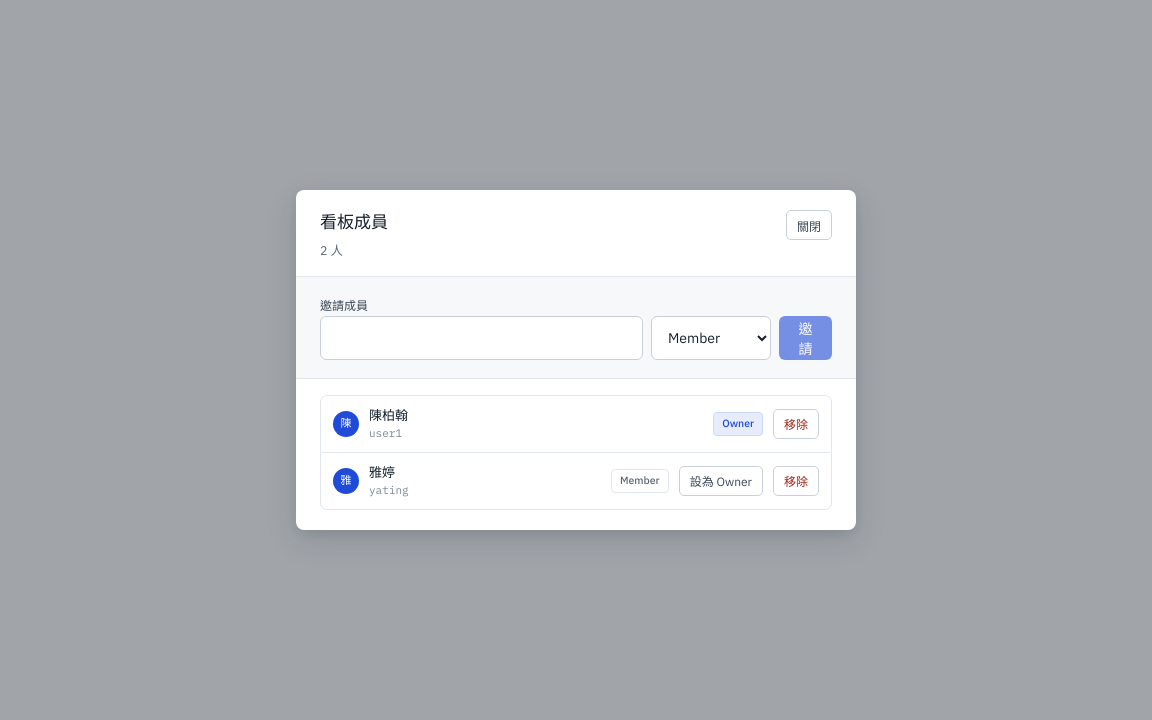
Test: s-member-management › 邀請已是成員的帳號時，輸入內容保留、顯示訊息，成員清單不變
The width and height of the screenshot is (1152, 720).
Expected: the text "2 人" is shown, top-left (320, 242), bottom-right (343, 258)
Type "yating" into the field labelled "邀請成員" at [481, 338], box top-left (320, 316), bottom-right (643, 360)
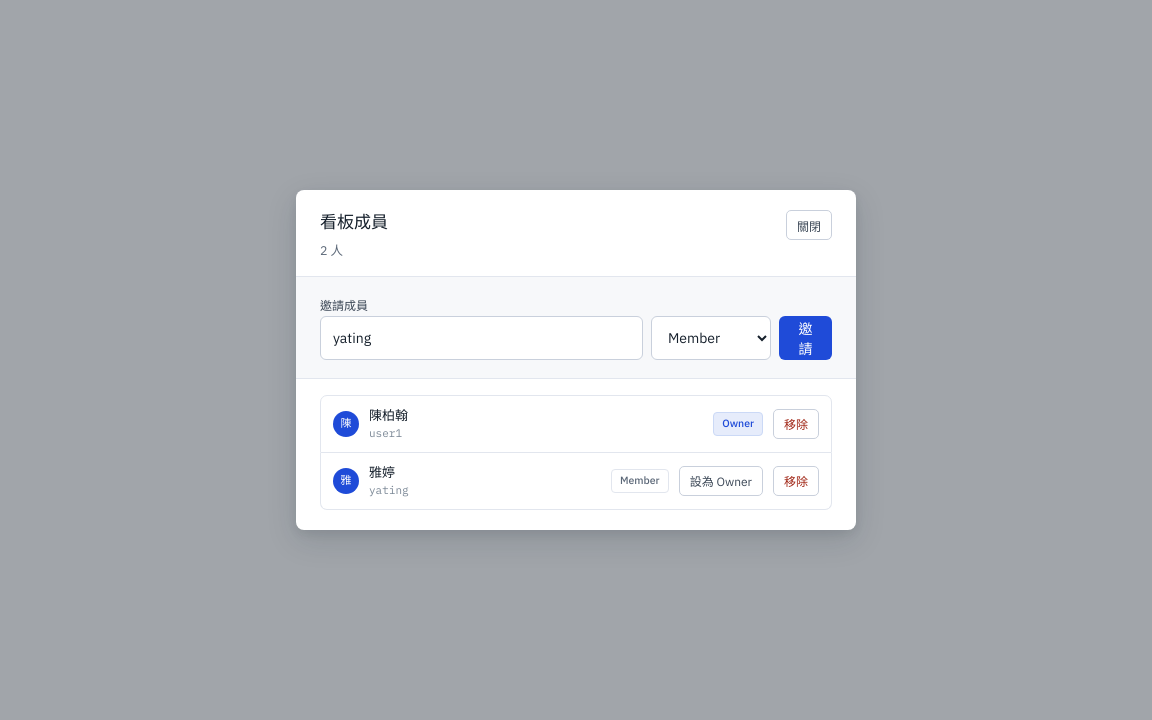
Click the button "邀請" at [805, 338], box top-left (779, 316), bottom-right (832, 360)
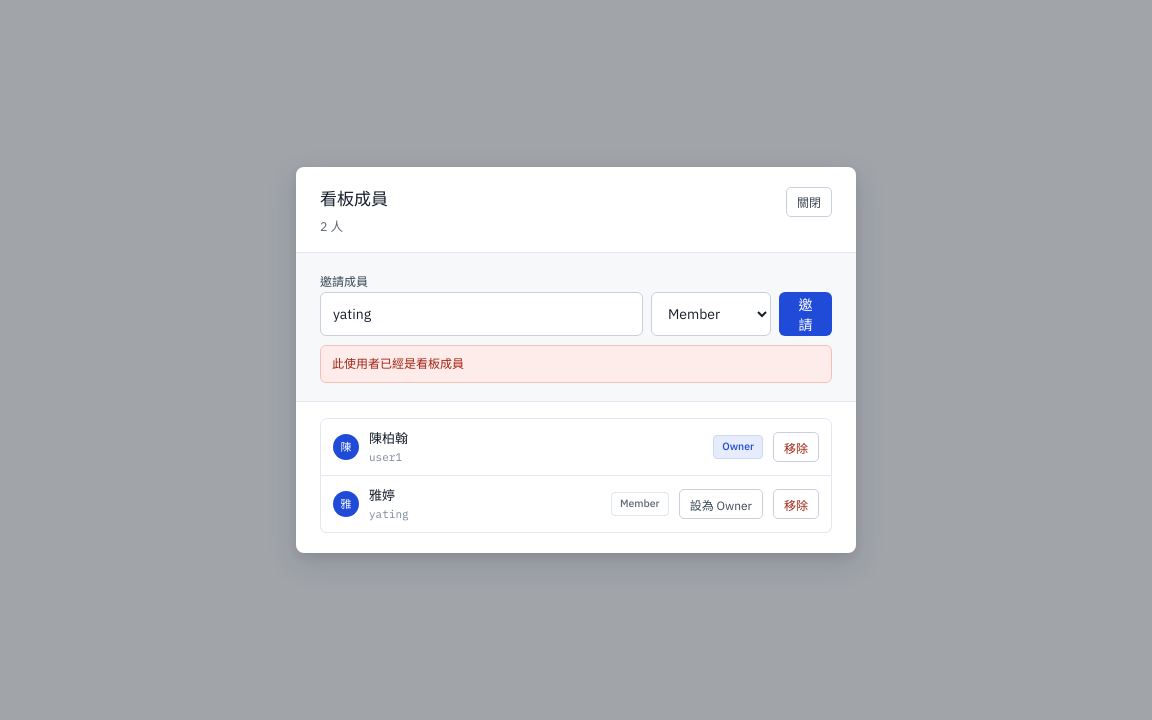
Expected: the text "2 人" is shown, top-left (320, 218), bottom-right (343, 234)
Now the text "此使用者已經是看板成員" is shown, box top-left (320, 345), bottom-right (832, 383)
